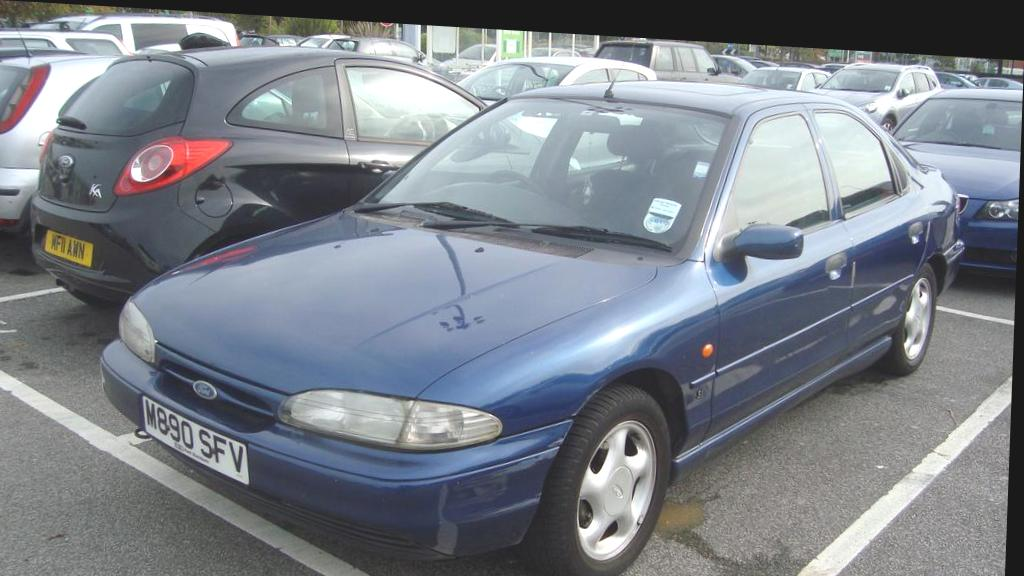License_Plate: (140, 395, 253, 486), (41, 228, 94, 267)
